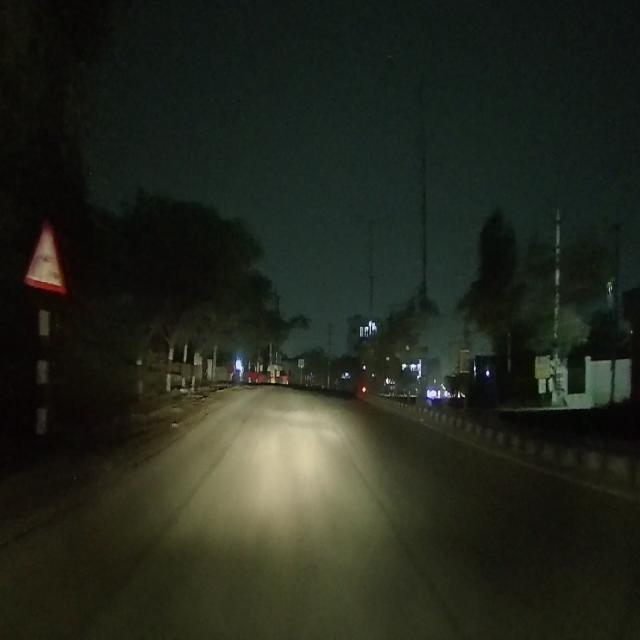right-hand-curve: (32, 228, 58, 285)
